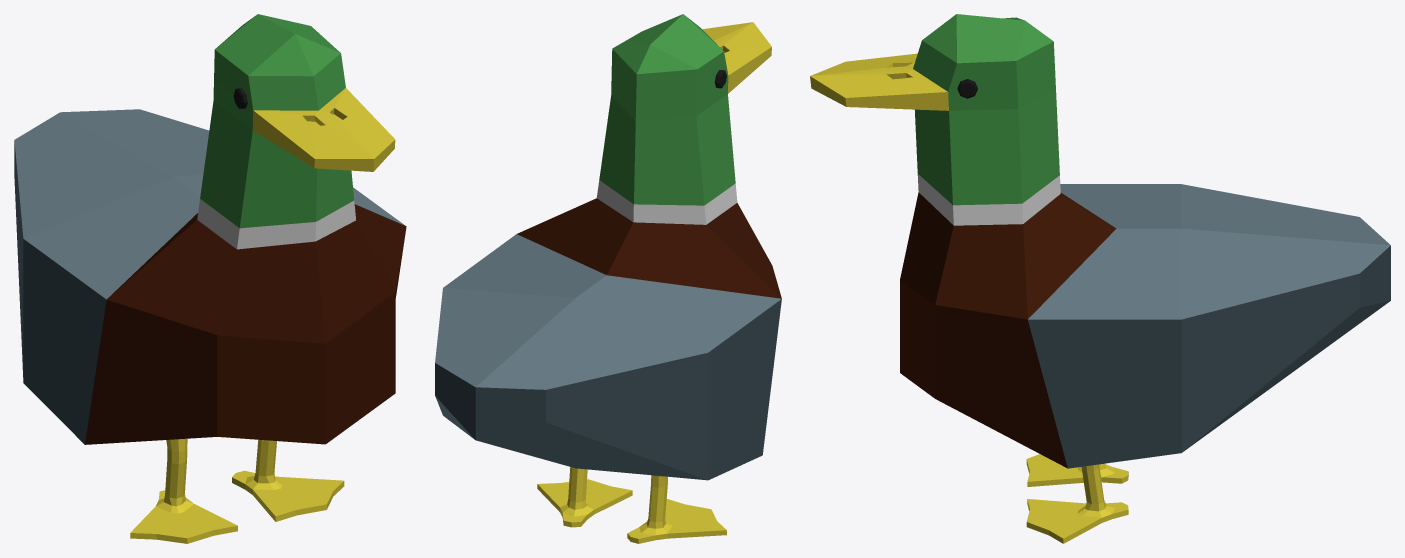
File: Duck_01.fbx
The picture shows the model from 3 angles, left to right: view 1: azimuth 30°, elevation 25°; view 2: azimuth 150°, elevation 25°; view 3: azimuth 270°, elevation 25°; orthographic projection. The views are drawn at different scales.
Parts seen in each view (by area): view 1: Duck_01; view 2: Duck_01; view 3: Duck_01.
Part boxes in pixels (left/top/right/bottom): Duck_01: left=14, top=14, right=406, bottom=543; Duck_01: left=435, top=14, right=781, bottom=543; Duck_01: left=810, top=14, right=1390, bottom=543.
Bounding box in the file's own units: 4.27 × 7.08 × 7.74.
